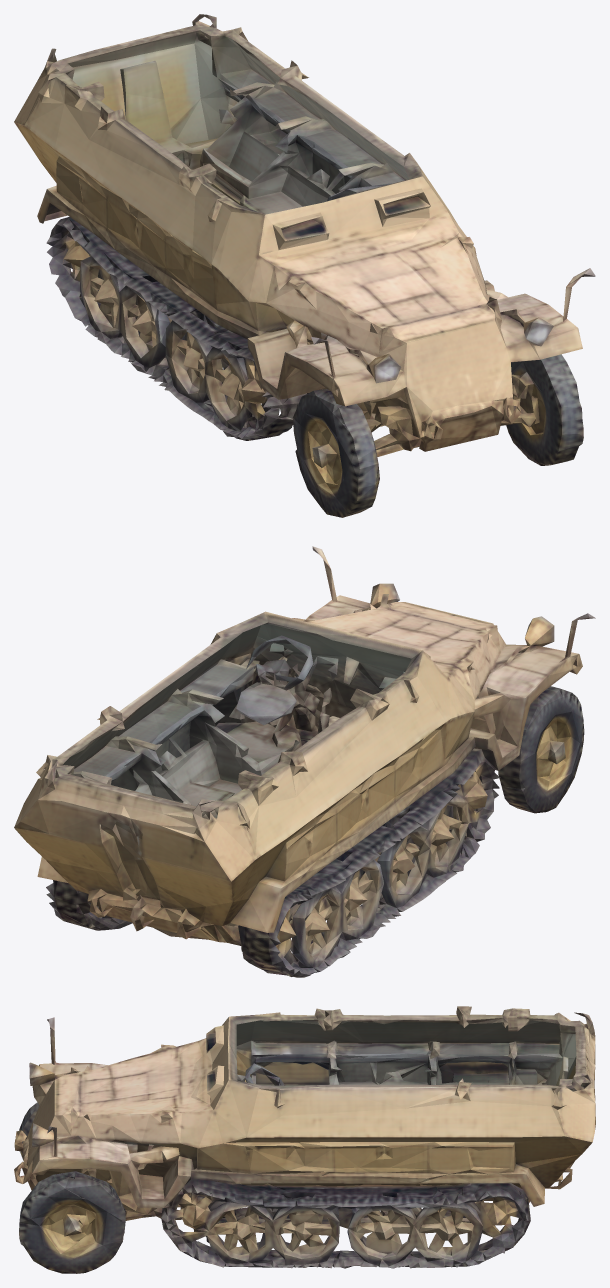
Rendered from halftrack_hull.obj.
The picture shows the model from 3 angles, top to bottom: view 1: azimuth 30°, elevation 25°; view 2: azimuth 150°, elevation 25°; view 3: azimuth 270°, elevation 25°; orthographic projection. The views are drawn at different scales.
Visible parts, largest first — view 1: halftrack_hull; view 2: halftrack_hull; view 3: halftrack_hull.
Boxes of the visible parts, x1,y1,x2,y2 form: halftrack_hull: [14, 14, 595, 517]; halftrack_hull: [14, 546, 595, 977]; halftrack_hull: [14, 1006, 595, 1273].
Bounding box in the file's own units: 2.67 × 2.06 × 5.8.
1 material, 1 textured.
